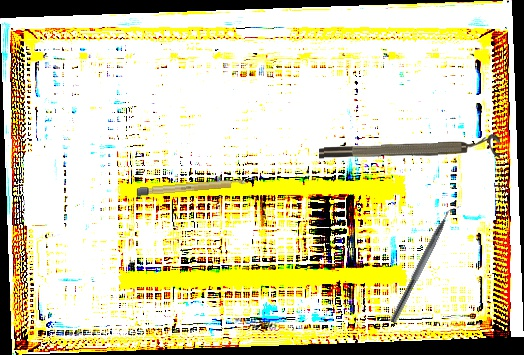Chopper: (389, 200, 463, 328)
Fixation Ring: (318, 133, 501, 162)
Scalpel Handle: (135, 178, 249, 197)
